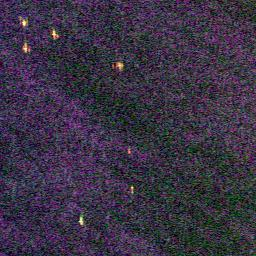Ship: (17, 43, 32, 55), (17, 16, 30, 29), (123, 145, 134, 160), (127, 183, 138, 198), (108, 62, 126, 71), (74, 214, 86, 227), (49, 28, 60, 40)
